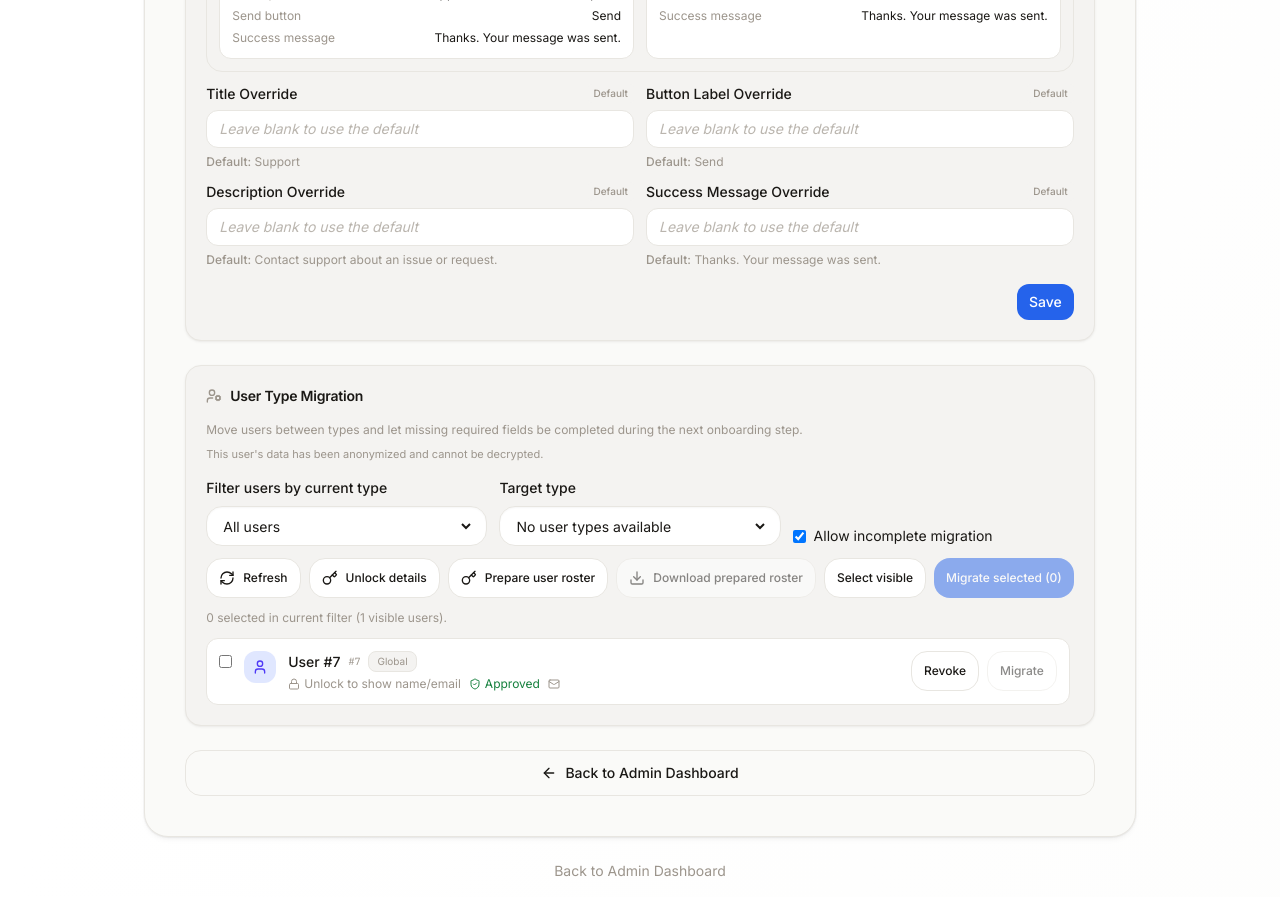
Test: AdminUserConfig › requires browser decryption support before preparing encrypted Users
(page scrolled)
Click the button "Prepare user roster" at coordinates (528, 578), box [448,558,608,598]
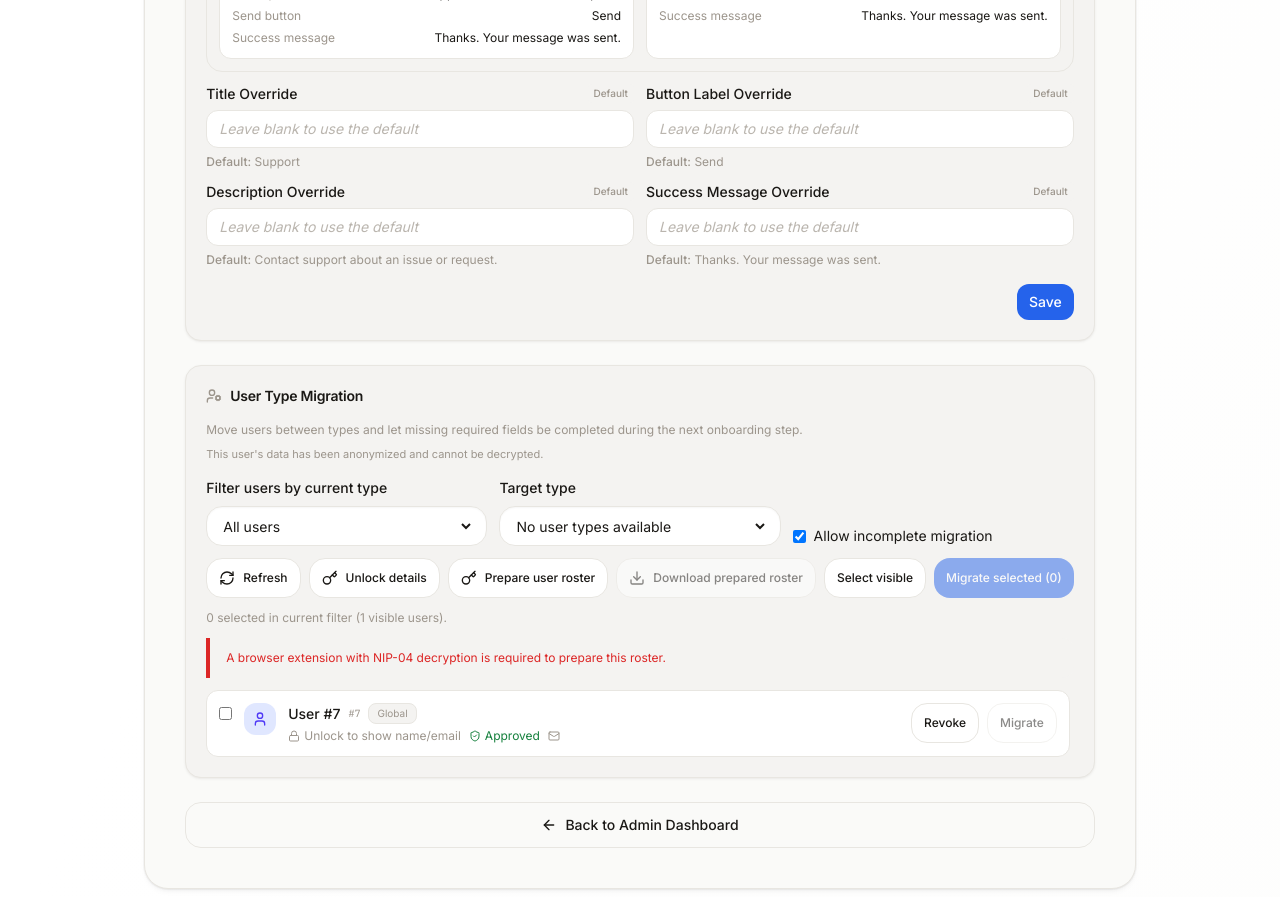
Expected: the button "Download prepared roster" is disabled, [616,558,816,598]
Now the element named "User roster export failed" shows "A browser extension with NIP-04 decryption is required", box [226,650,666,665]
